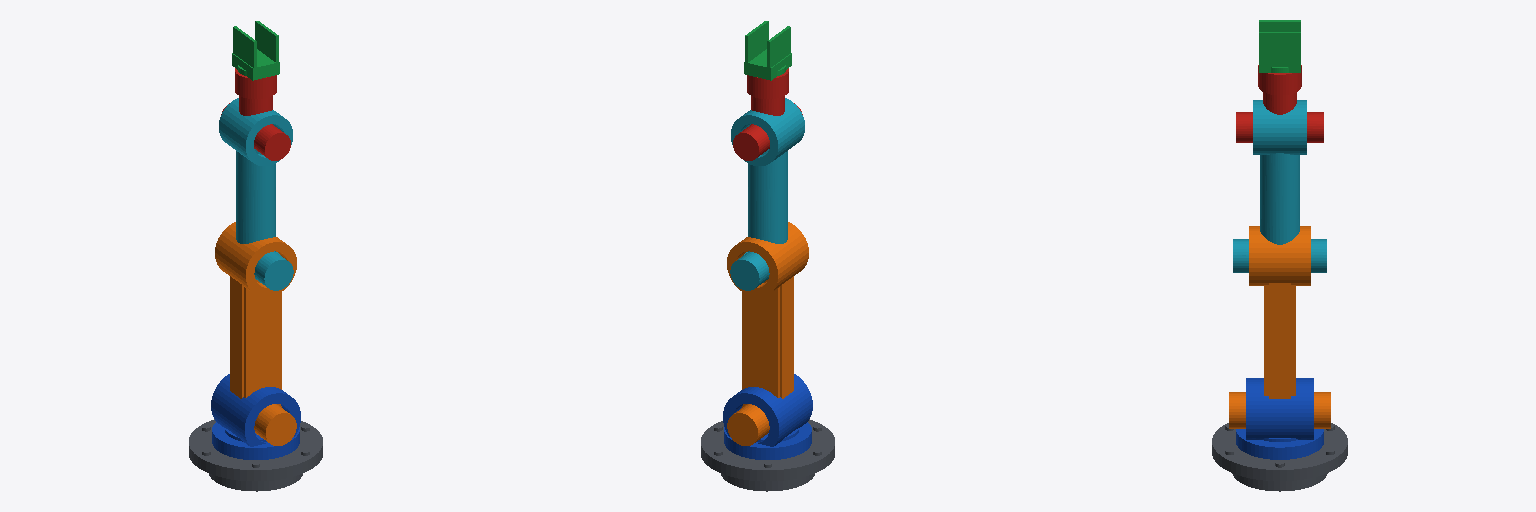
robot.urdf — arm_5dof:
<?xml version="1.0"?>
<robot name="arm_5dof">
  <!-- 5自由度串联机械臂：SolidWorks建模 -> STL + URDF，模型为Z-up，单位米；各link坐标系原点位于其父关节轴心 -->
  <material name="dark_gray"><color rgba="0.35 0.37 0.40 1"/></material>
  <material name="blue"><color rgba="0.13 0.35 0.75 1"/></material>
  <material name="orange"><color rgba="0.90 0.47 0.10 1"/></material>
  <material name="cyan"><color rgba="0.16 0.63 0.72 1"/></material>
  <material name="red"><color rgba="0.76 0.18 0.15 1"/></material>
  <material name="green"><color rgba="0.15 0.65 0.32 1"/></material>
  <link name="base_link">
    <inertial>
      <origin xyz="-9.85494e-11 5.05041e-18 -0.0220966"/>
      <mass value="10.4022"/>
      <inertia ixx="0.0400497" ixy="-8.31151e-19" ixz="-3.68057e-11" iyy="0.0400497" iyz="-1.23877e-18" izz="0.0745209"/>
    </inertial>
    <visual>
      <origin xyz="0 0 0.08" rpy="0 0 0"/>
      <geometry><mesh filename="package://arm_5dof/meshes/base_link.STL"/></geometry>
      <material name="dark_gray"/>
    </visual>
    <collision>
      <origin xyz="0 0 0.08" rpy="0 0 0"/>
      <geometry><mesh filename="package://arm_5dof/meshes/base_link.STL"/></geometry>
    </collision>
  </link>
  <link name="link_1">
    <inertial>
      <origin xyz="7.80882e-07 -5.97251e-19 0.0369475"/>
      <mass value="3.29071"/>
      <inertia ixx="0.00916295" ixy="6.13349e-09" ixz="3.32707e-08" iyy="0.00946072" iyz="-5.0701e-19" izz="0.0083269"/>
    </inertial>
    <visual>
      <geometry><mesh filename="package://arm_5dof/meshes/link_1.STL"/></geometry>
      <material name="blue"/>
    </visual>
    <collision>
      <geometry><mesh filename="package://arm_5dof/meshes/link_1.STL"/></geometry>
    </collision>
  </link>
  <link name="link_2">
    <inertial>
      <origin xyz="3.20649e-08 -2.52268e-08 0.148047"/>
      <mass value="6.22282"/>
      <inertia ixx="0.09586" ixy="-1.24125e-08" ixz="-7.61272e-08" iyy="0.0929149" iyz="5.99354e-08" izz="0.0101465"/>
    </inertial>
    <visual>
      <geometry><mesh filename="package://arm_5dof/meshes/link_2.STL"/></geometry>
      <material name="orange"/>
    </visual>
    <collision>
      <geometry><mesh filename="package://arm_5dof/meshes/link_2.STL"/></geometry>
    </collision>
  </link>
  <link name="link_3">
    <inertial>
      <origin xyz="8.86955e-11 8.17399e-10 0.122471"/>
      <mass value="4.6642"/>
      <inertia ixx="0.052194" ixy="-1.18982e-07" ixz="-1.44944e-10" iyy="0.0498209" iyz="-4.68759e-10" izz="0.00640528"/>
    </inertial>
    <visual>
      <geometry><mesh filename="package://arm_5dof/meshes/link_3.STL"/></geometry>
      <material name="cyan"/>
    </visual>
    <collision>
      <geometry><mesh filename="package://arm_5dof/meshes/link_3.STL"/></geometry>
    </collision>
  </link>
  <link name="link_4">
    <inertial>
      <origin xyz="-2.36202e-07 4.52762e-08 -0.0963569"/>
      <mass value="1.3415"/>
      <inertia ixx="0.00450255" ixy="1.84468e-08" ixz="-3.19489e-08" iyy="0.00273866" iyz="5.00714e-09" izz="0.00249165"/>
    </inertial>
    <visual>
      <geometry><mesh filename="package://arm_5dof/meshes/link_4.STL"/></geometry>
      <material name="red"/>
    </visual>
    <collision>
      <geometry><mesh filename="package://arm_5dof/meshes/link_4.STL"/></geometry>
    </collision>
  </link>
  <link name="link_5">
    <inertial>
      <origin xyz="1.66848e-11 9.42565e-19 0.0199533"/>
      <mass value="0.45494"/>
      <inertia ixx="0.000400657" ixy="-1.12106e-21" ixz="2.57726e-13" iyy="0.000361425" iyz="1.51255e-20" izz="0.000333876"/>
    </inertial>
    <visual>
      <geometry><mesh filename="package://arm_5dof/meshes/link_5.STL"/></geometry>
      <material name="green"/>
    </visual>
    <collision>
      <geometry><mesh filename="package://arm_5dof/meshes/link_5.STL"/></geometry>
    </collision>
  </link>
  <joint name="base_yaw" type="revolute">
    <parent link="base_link"/>
    <child link="link_1"/>
    <origin xyz="0 0 0.08" rpy="0 0 0"/>
    <axis xyz="0 0 1"/>
    <limit lower="-3.1416" upper="3.1416" effort="30" velocity="1.5"/>
    <dynamics damping="0.15" friction="0.05"/>
  </joint>
  <joint name="shoulder_pitch" type="revolute">
    <parent link="link_1"/>
    <child link="link_2"/>
    <origin xyz="0 0 0.06" rpy="0 0 0"/>
    <axis xyz="0 1 0"/>
    <limit lower="-1.5708" upper="1.5708" effort="30" velocity="1.5"/>
    <dynamics damping="0.15" friction="0.05"/>
  </joint>
  <joint name="elbow_pitch" type="revolute">
    <parent link="link_2"/>
    <child link="link_3"/>
    <origin xyz="0 0 0.3" rpy="0 0 0"/>
    <axis xyz="0 1 0"/>
    <limit lower="-2.3562" upper="2.3562" effort="20" velocity="1.5"/>
    <dynamics damping="0.15" friction="0.05"/>
  </joint>
  <joint name="wrist_pitch" type="revolute">
    <parent link="link_3"/>
    <child link="link_4"/>
    <origin xyz="0 0 0.37" rpy="0 0 0"/>
    <axis xyz="0 1 0"/>
    <limit lower="-2.0944" upper="2.0944" effort="10" velocity="2.0"/>
    <dynamics damping="0.15" friction="0.05"/>
  </joint>
  <joint name="wrist_roll" type="revolute">
    <parent link="link_4"/>
    <child link="link_5"/>
    <origin xyz="0 0 0" rpy="0 0 0"/>
    <axis xyz="0 0 1"/>
    <limit lower="-3.1416" upper="3.1416" effort="8" velocity="2.5"/>
    <dynamics damping="0.15" friction="0.05"/>
  </joint>
</robot>

--- Render facts (derived) ---
Views: 3 orthographic renders of the robot side by side, from view 1: azimuth 30°, elevation 25°; view 2: azimuth 150°, elevation 25°; view 3: azimuth 270°, elevation 25°.
Model arm_5dof with 6 links and 5 joints (5 revolute), rooted at base_link, posed all joints at 0.
Links seen in each view (by area): view 1: link_2, link_3, base_link, link_1, link_4, link_5; view 2: link_2, link_3, base_link, link_1, link_4, link_5; view 3: link_2, link_3, link_1, base_link, link_4, link_5.
Link boxes in pixels (<box>): link_2: <box>215,222,296,445</box>; link_3: <box>219,98,293,290</box>; base_link: <box>189,419,322,491</box>; link_1: <box>211,374,300,459</box>; link_4: <box>221,68,290,160</box>; link_5: <box>232,21,279,80</box>; link_2: <box>727,222,808,445</box>; link_3: <box>730,98,804,290</box>; base_link: <box>701,419,834,491</box>; link_1: <box>723,374,812,459</box>; link_4: <box>733,68,802,160</box>; link_5: <box>744,21,791,80</box>; link_2: <box>1229,226,1330,428</box>; link_3: <box>1233,100,1326,272</box>; link_1: <box>1236,378,1323,459</box>; base_link: <box>1212,423,1347,491</box>; link_4: <box>1236,65,1323,142</box>; link_5: <box>1259,20,1300,72</box>.
Bounding box of the posed robot: 0.24 × 0.2397 × 0.864 m (x, y, z).
Meshes: 6 distinct files referenced, 6 mesh visuals loaded (6 binary STL).
